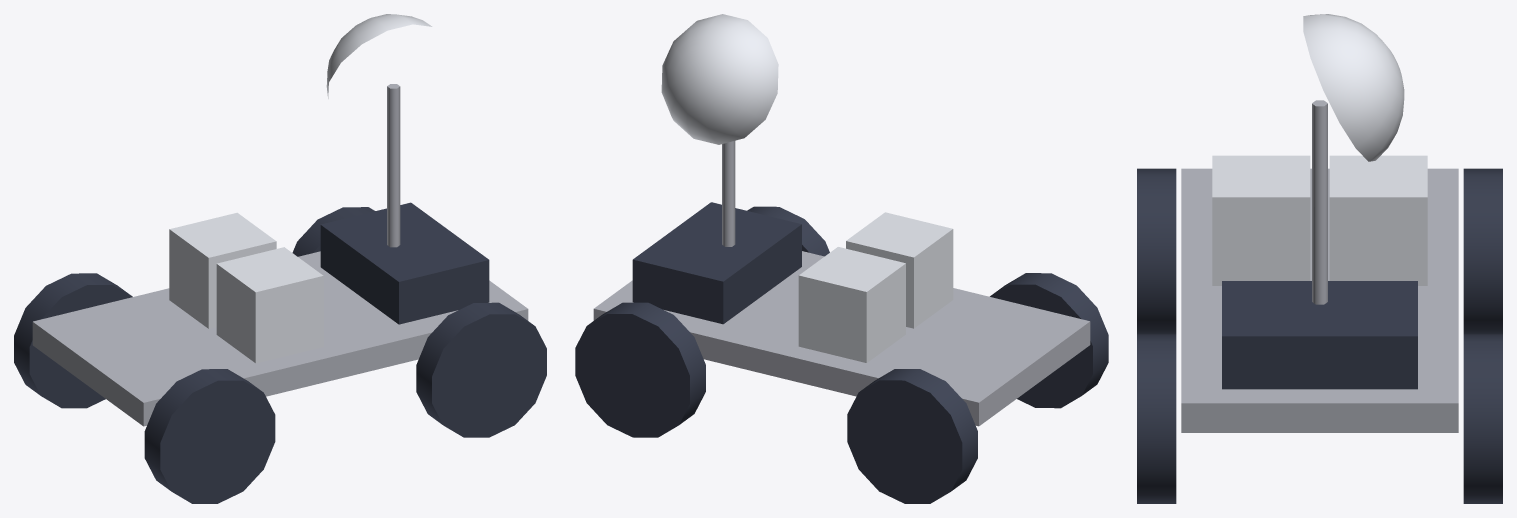
The model's file is lrv.glb.
3 renders of one model, left to right at view 1: azimuth 30°, elevation 25°; view 2: azimuth 150°, elevation 25°; view 3: azimuth 270°, elevation 25°, orthographic. The views are drawn at different scales.
Visible parts, largest first — view 1: placeholder-lrv; view 2: placeholder-lrv; view 3: placeholder-lrv.
Part boxes in pixels (x1,y1,x2,y2): placeholder-lrv: (14,14,546,503); placeholder-lrv: (575,14,1108,503); placeholder-lrv: (1137,14,1502,503).
Bounding box in the file's own units: 1.71 × 1.55 × 1.12.
